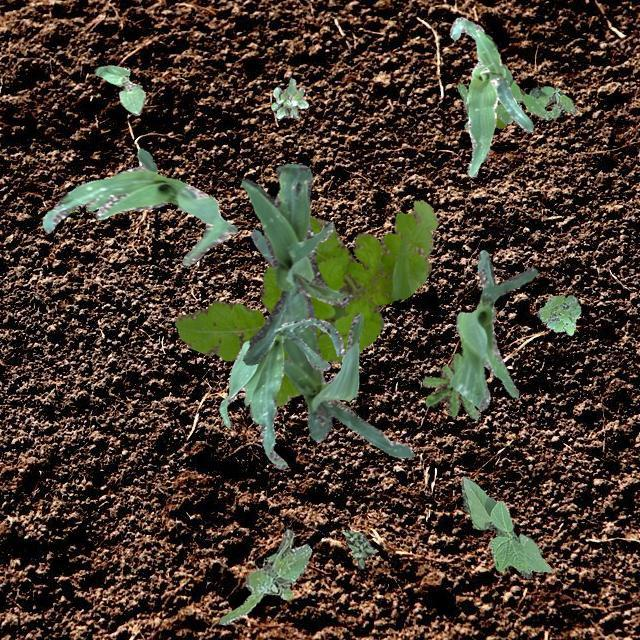crop: (251, 228, 414, 456), (240, 162, 352, 364), (42, 148, 236, 264), (220, 317, 344, 468), (448, 248, 536, 410), (448, 16, 532, 176), (460, 476, 550, 578), (94, 64, 144, 114)
weed: (174, 200, 438, 406), (218, 528, 310, 624), (456, 64, 576, 128), (422, 352, 479, 418), (536, 294, 580, 334), (270, 76, 308, 118), (342, 528, 374, 568), (494, 99, 506, 128)
